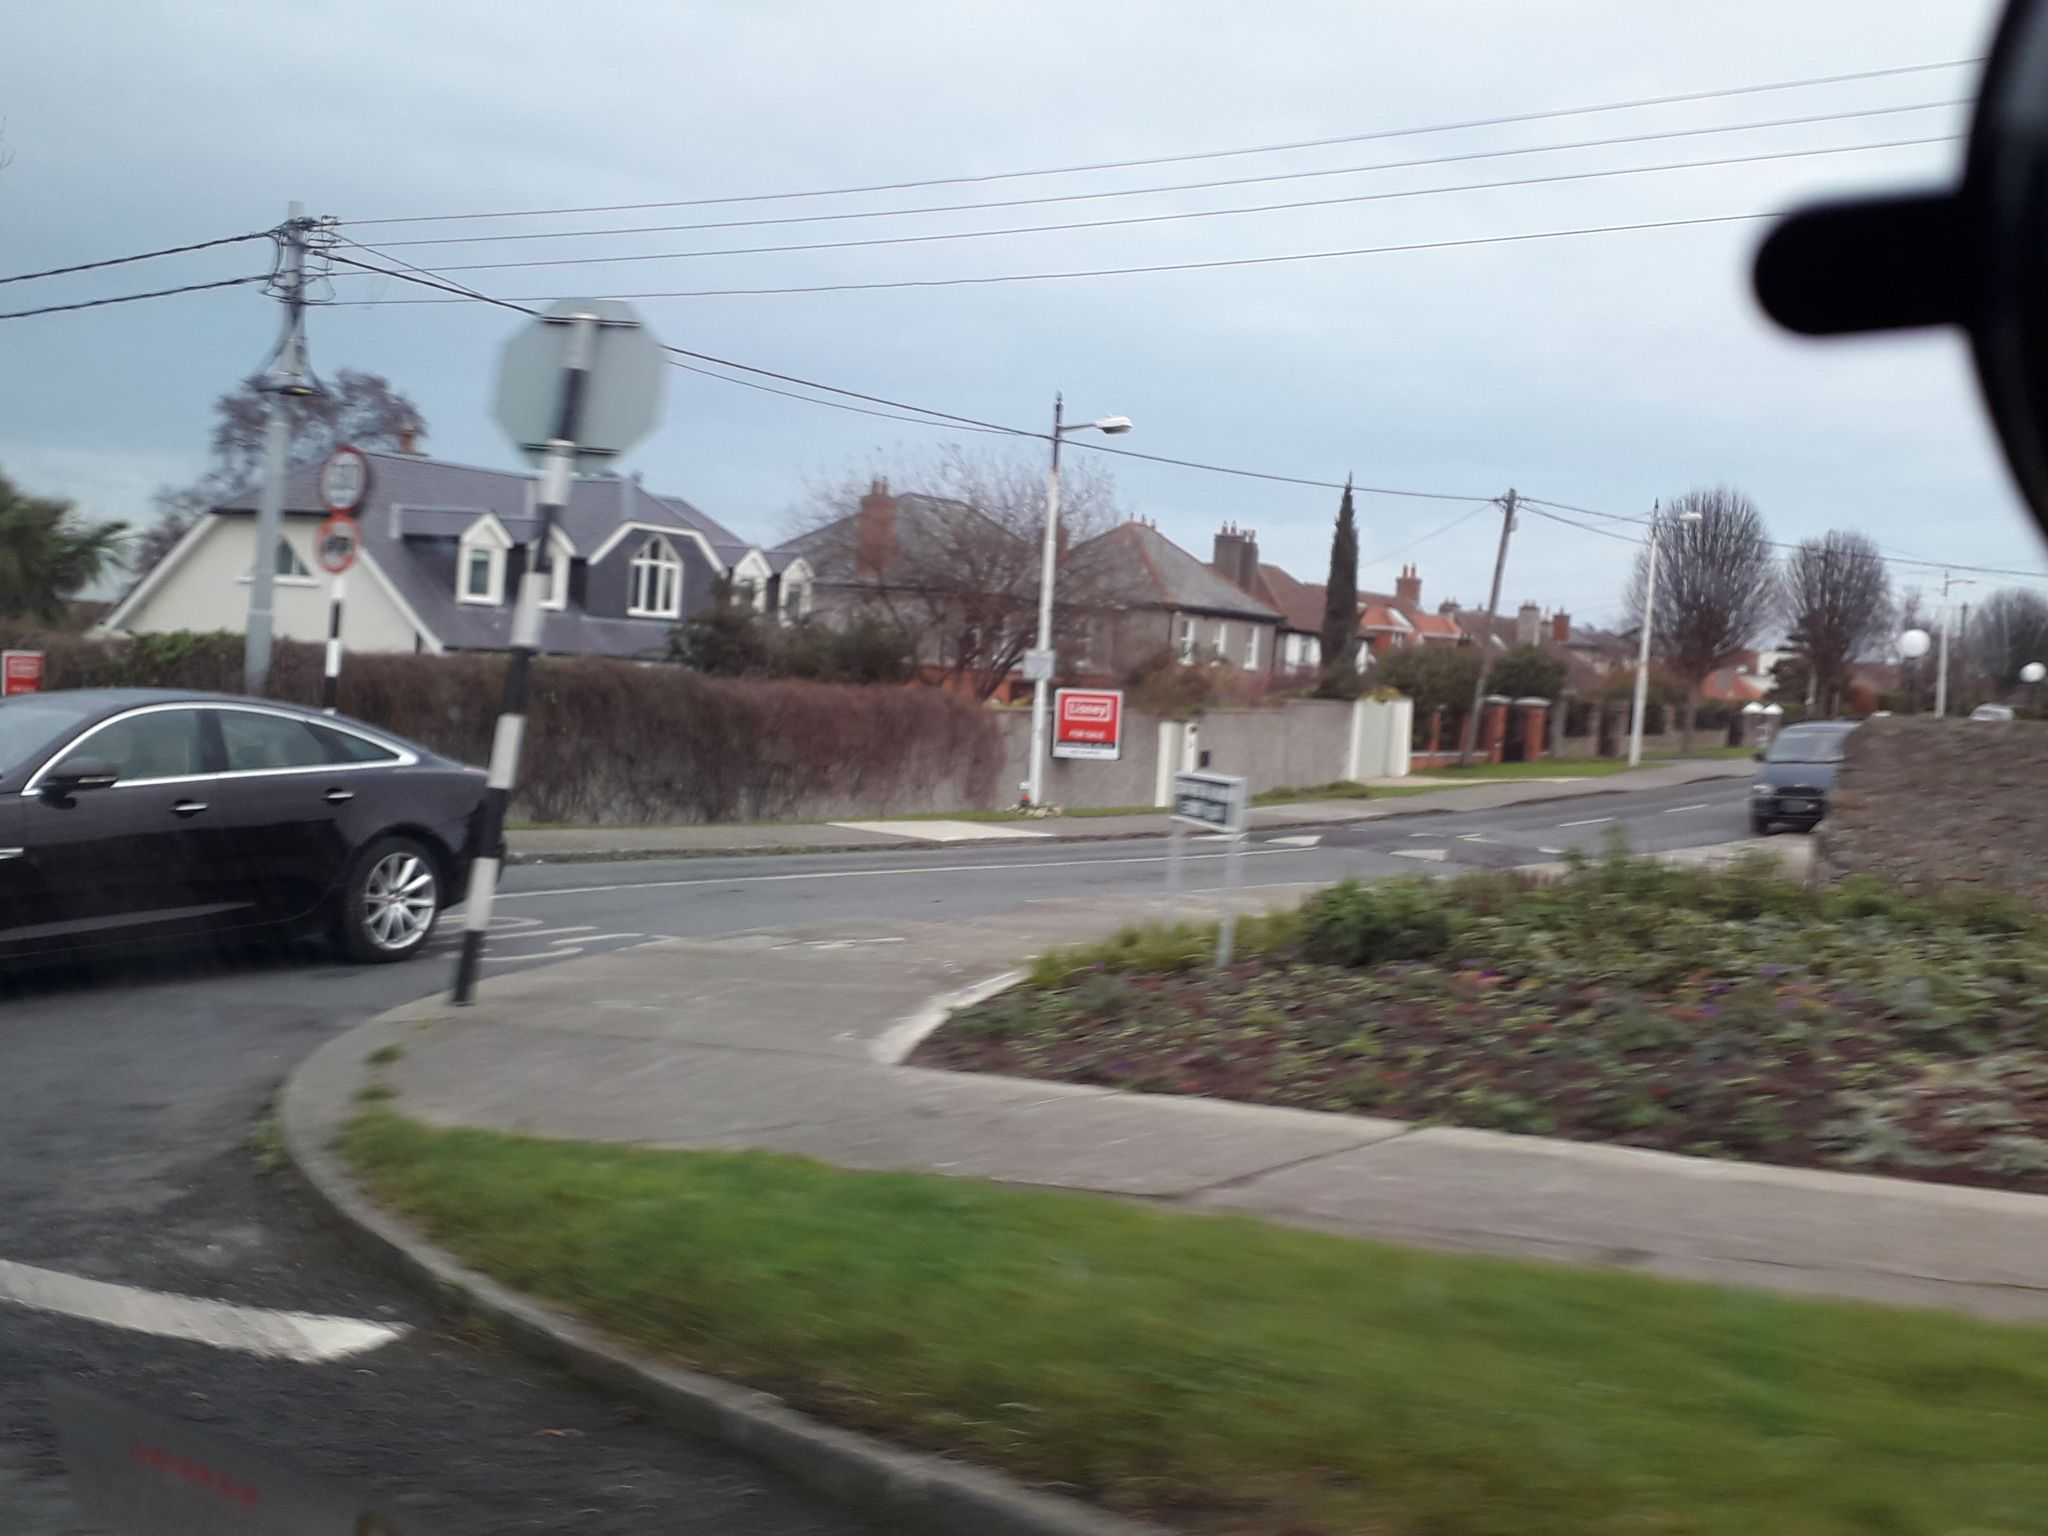property sign: (1027, 658, 1134, 779), (3, 623, 53, 700)
